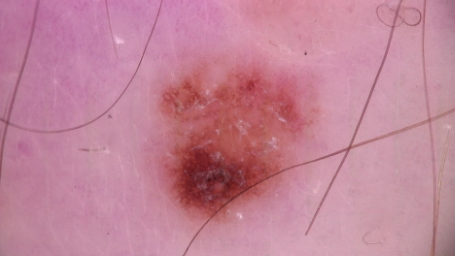nevus: (161, 63, 304, 214)
